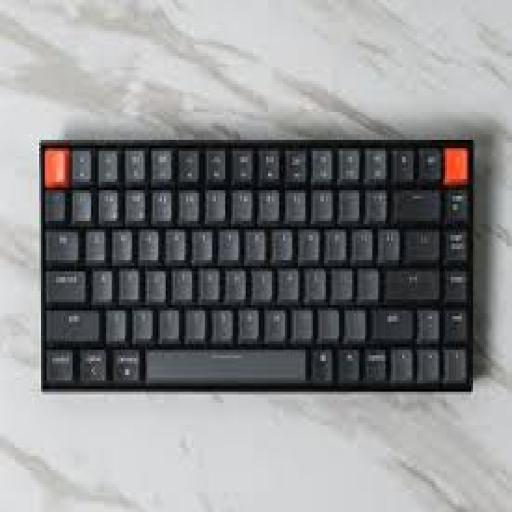KEYBOARD-2: (34, 138, 479, 397)
